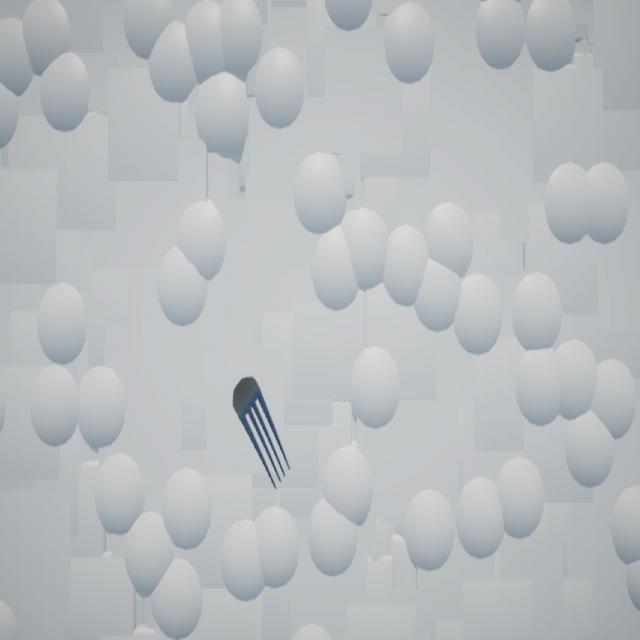top_folk: (234, 378, 292, 491)
